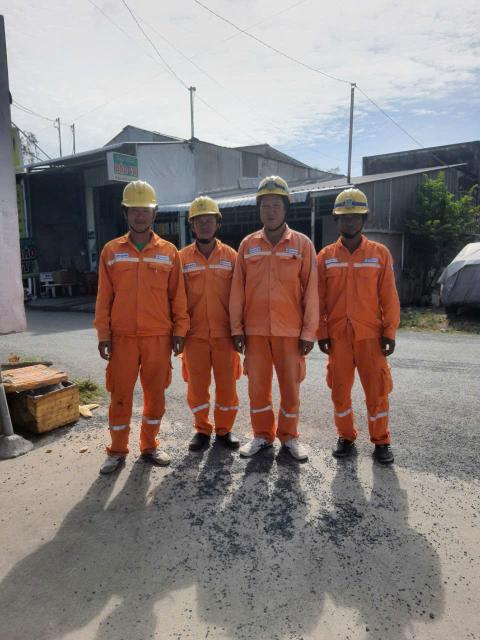helmet: (114, 174, 164, 216), (180, 189, 232, 223), (328, 182, 377, 218), (254, 172, 303, 202)
shoes: (238, 428, 279, 467), (136, 436, 174, 471), (278, 430, 313, 468), (327, 427, 361, 465), (370, 433, 402, 471), (95, 447, 134, 475), (183, 427, 214, 456), (217, 427, 243, 449)
